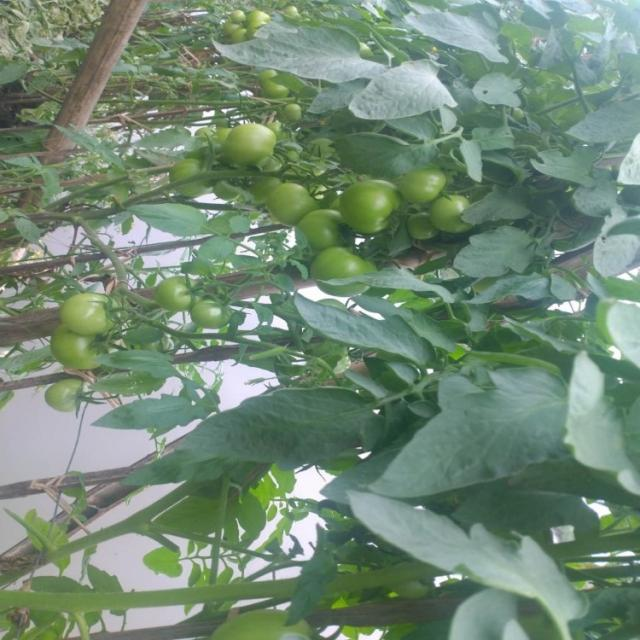tomato: (214, 119, 290, 172), (336, 176, 406, 230), (216, 606, 319, 640), (49, 335, 115, 382), (59, 289, 121, 334), (259, 177, 322, 221), (313, 246, 375, 290), (293, 198, 350, 245), (169, 152, 214, 210), (42, 370, 86, 420), (397, 166, 449, 203), (433, 190, 474, 236), (199, 294, 241, 335), (151, 270, 194, 304), (264, 75, 297, 105), (250, 5, 278, 31), (220, 22, 249, 47)
